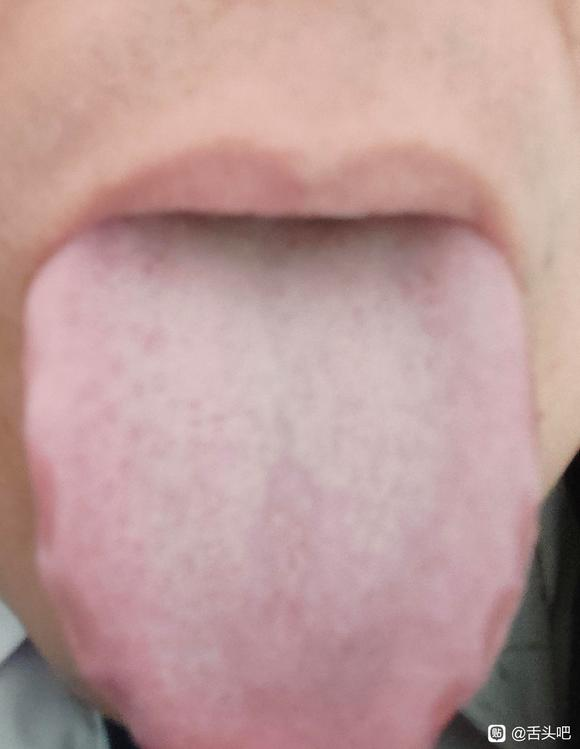baitaishe: (22, 217, 538, 749)
chihenshe: (27, 434, 137, 731), (427, 499, 538, 742)
pangdashe: (22, 217, 538, 749)
